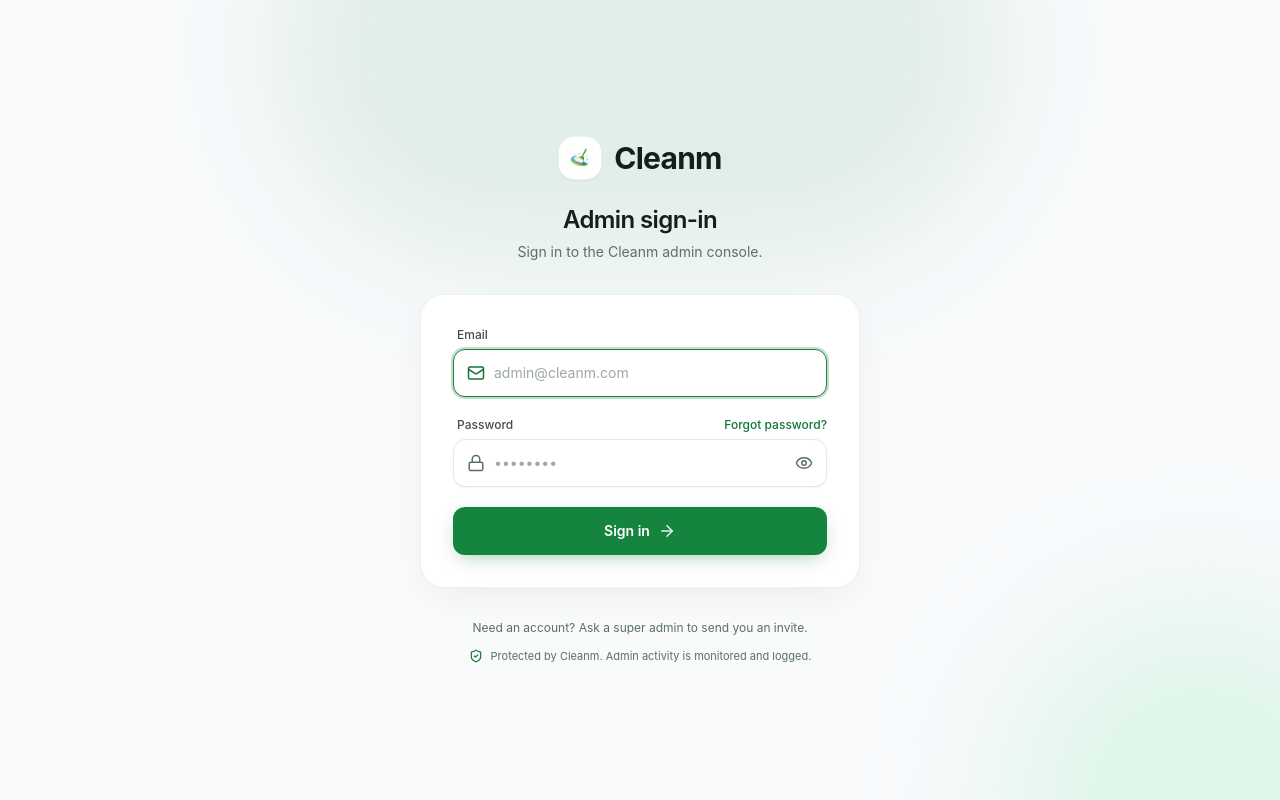
Scenario: admin login screen › names the authenticator app instead of an email for the totp method
Step 1. Type "admin@example.com" into the field labelled "Email" → (640, 373), box [453,349,827,397]
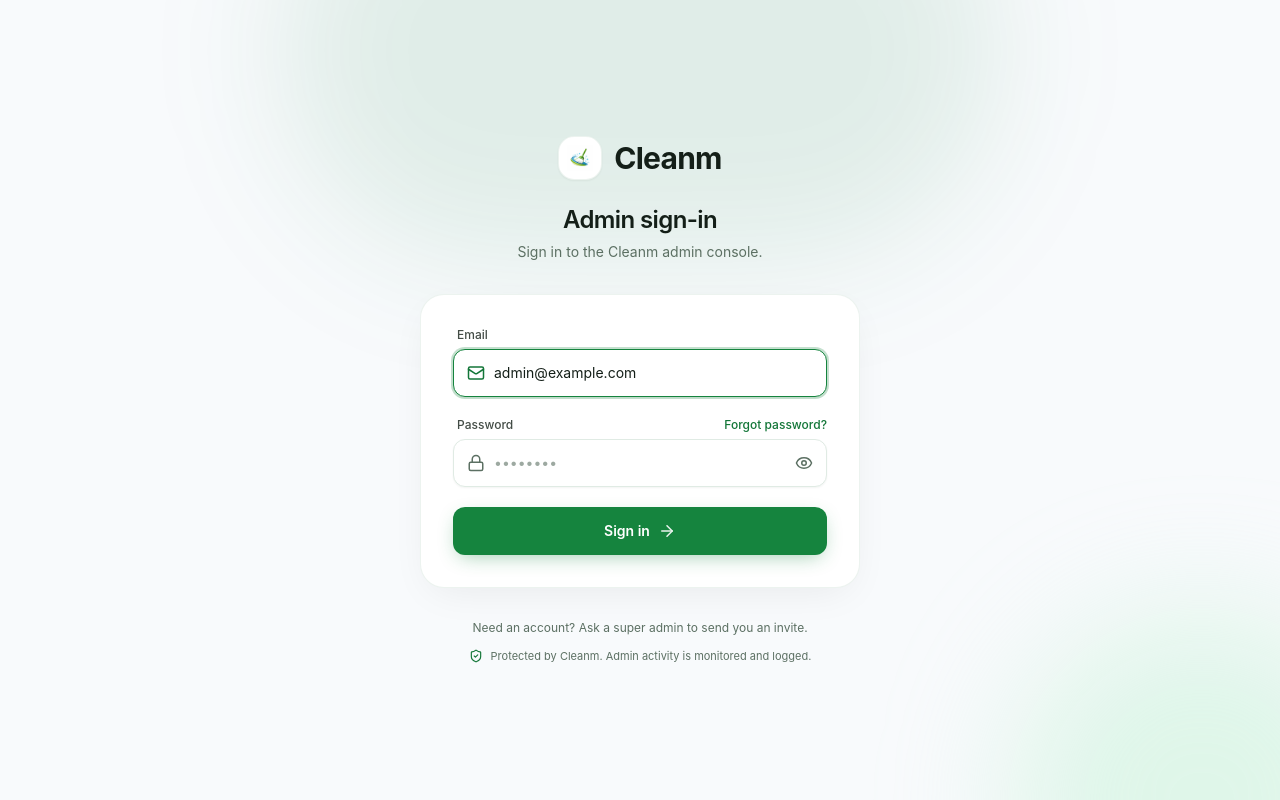
Step 2. Type "correct-horse-battery" into the password field labelled "Password" → (640, 463), box [453,439,827,487]
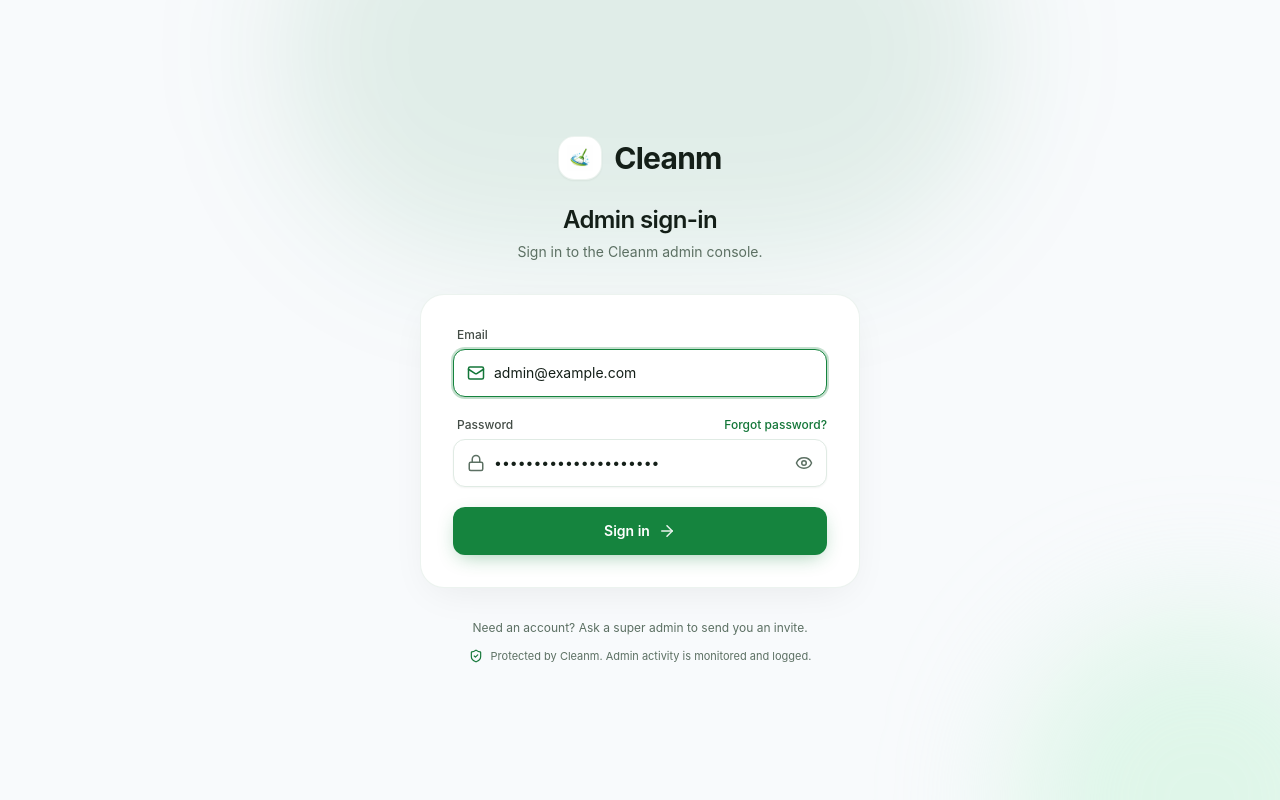
Step 3. Click the button "Sign in" → (640, 531), box [453,507,827,555]
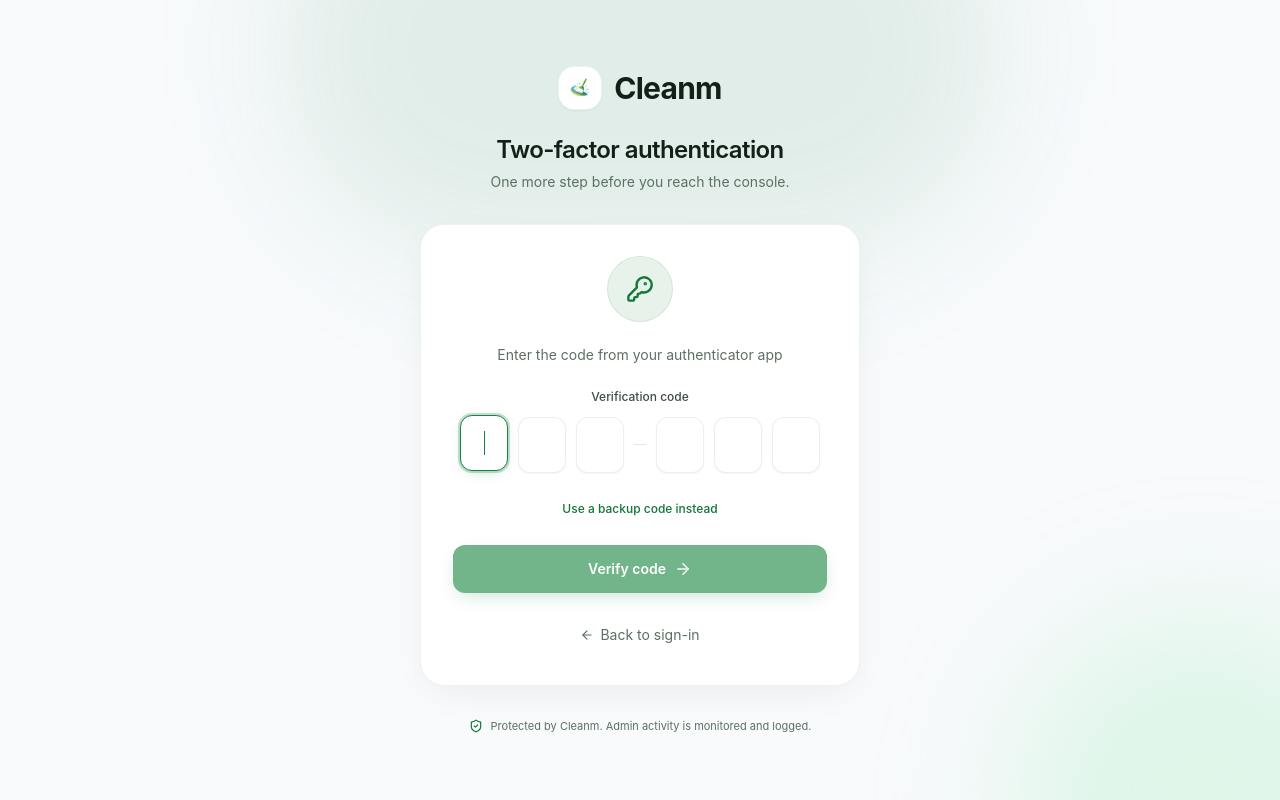
Now the text with test id "otp-method-copy" reads "Enter the code from your authenticator app", box [497,346,783,363]
